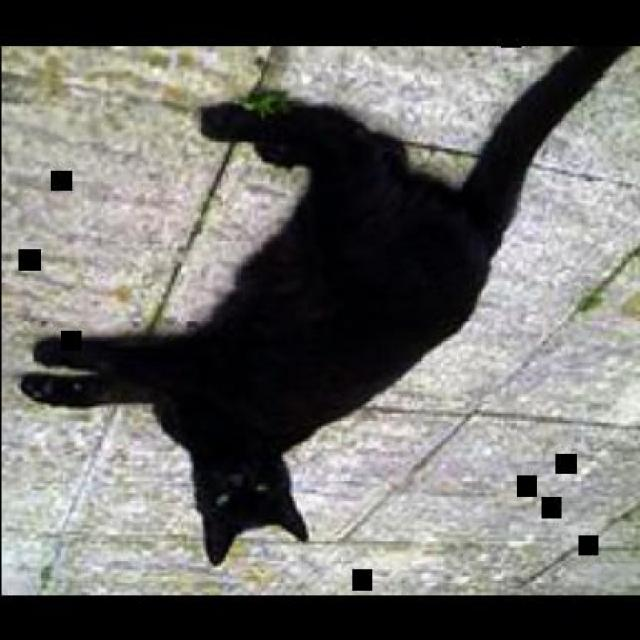unauthorized: (19, 43, 636, 566)
